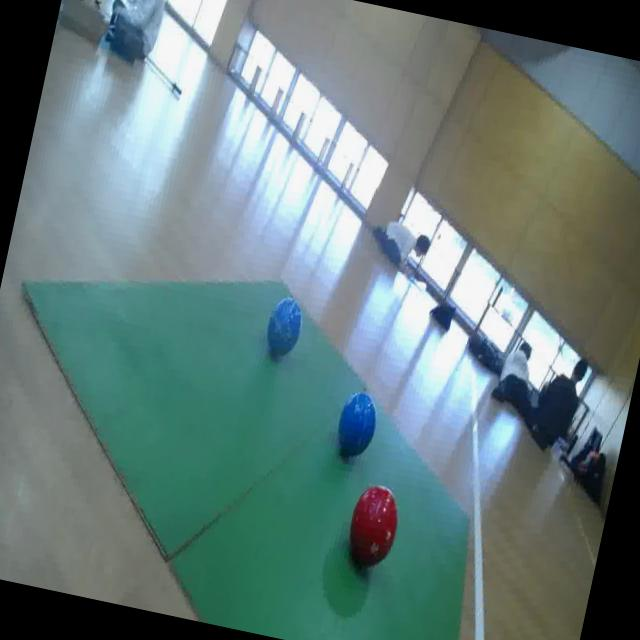blue_ball: (330, 386, 384, 466), (258, 292, 308, 363)
red_ball: (340, 474, 406, 576)
